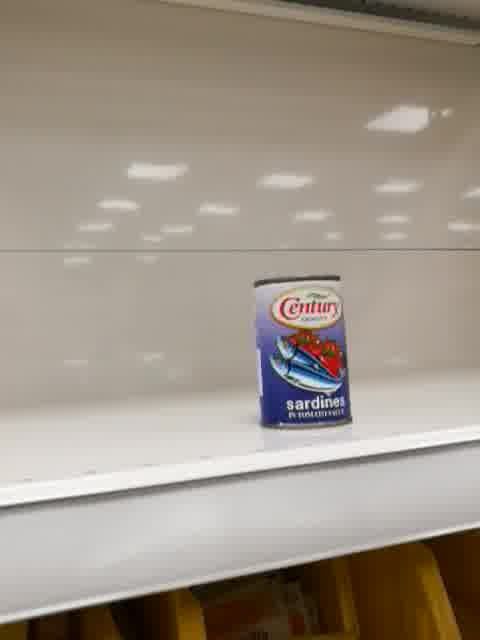sardine: (250, 272, 354, 430)
